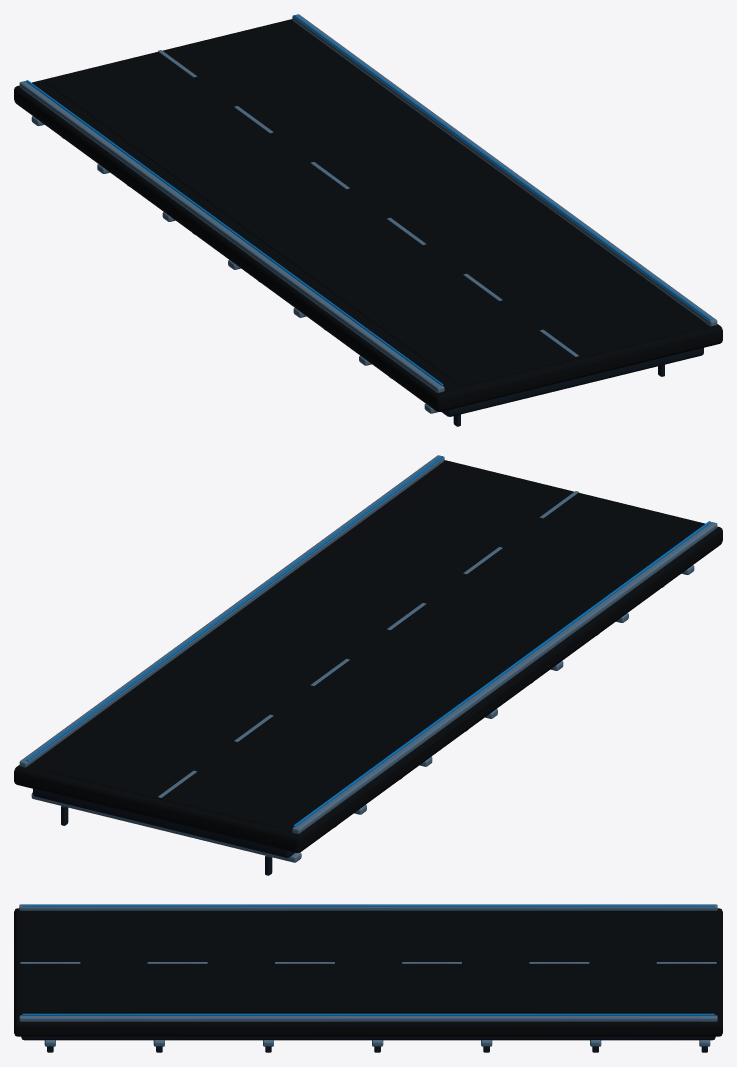
File: RoadSegment.obj
The picture shows the model from 3 angles, top to bottom: view 1: azimuth 30°, elevation 25°; view 2: azimuth 150°, elevation 25°; view 3: azimuth 270°, elevation 25°; orthographic projection. The views are drawn at different scales.
Parts seen in each view (by area): view 1: Road_MainDeck, Road_TitaniumShoulder, Road_CyanEdge, Road_UnderslungArmor; view 2: Road_MainDeck, Road_TitaniumShoulder, Road_CyanEdge, Road_UnderslungArmor; view 3: Road_MainDeck, Road_TitaniumShoulder, Road_UnderslungArmor, Road_CyanEdge.
Part boxes in pixels (left/top/right/bottom): Road_MainDeck: left=14, top=19, right=722, bottom=411; Road_TitaniumShoulder: left=19, top=14, right=717, bottom=413; Road_CyanEdge: left=26, top=15, right=710, bottom=385; Road_UnderslungArmor: left=61, top=137, right=703, bottom=426; Road_MainDeck: left=14, top=460, right=722, bottom=852; Road_TitaniumShoulder: left=19, top=455, right=717, bottom=862; Road_CyanEdge: left=26, top=456, right=710, bottom=826; Road_UnderslungArmor: left=33, top=586, right=664, bottom=875; Road_MainDeck: left=14, top=908, right=722, bottom=1036; Road_TitaniumShoulder: left=19, top=904, right=717, bottom=1046; Road_UnderslungArmor: left=21, top=1036, right=715, bottom=1052; Road_CyanEdge: left=22, top=905, right=714, bottom=1015.
Size of the model in its own units: 15.2 by 3.11 by 39.
